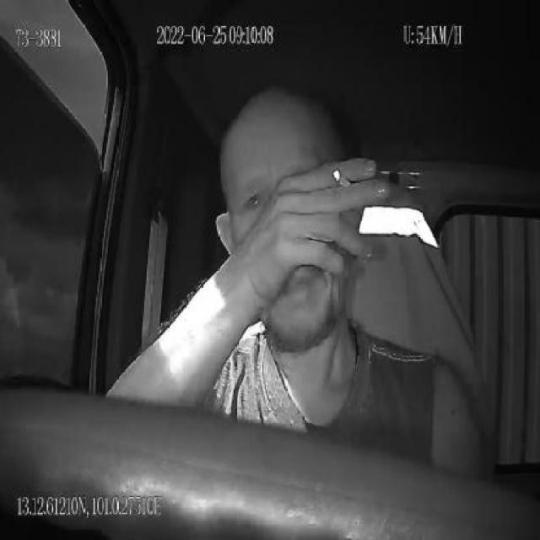smoking: (332, 166, 353, 191)
